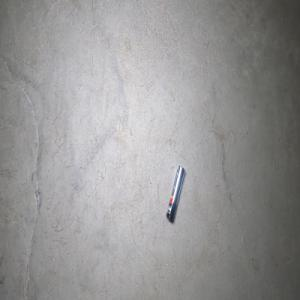Battery: (166, 164, 185, 222)
